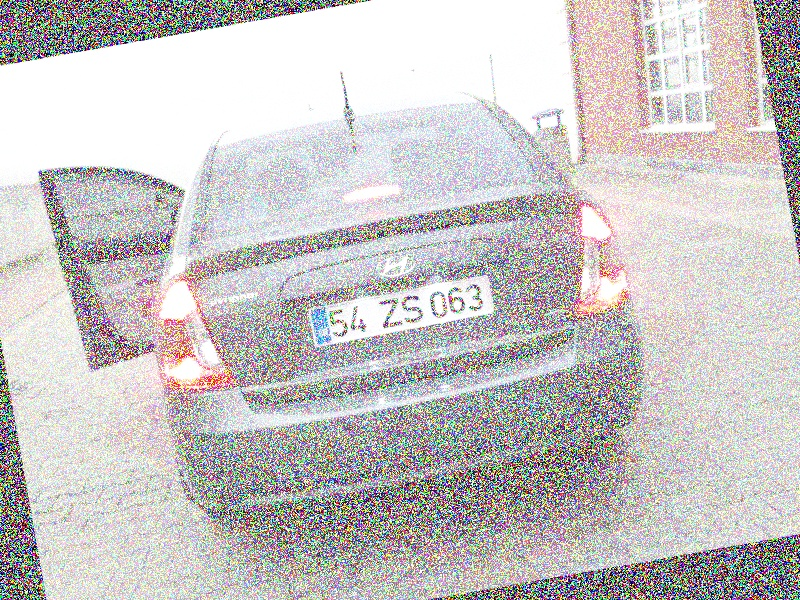plaka: (321, 280, 492, 338)
